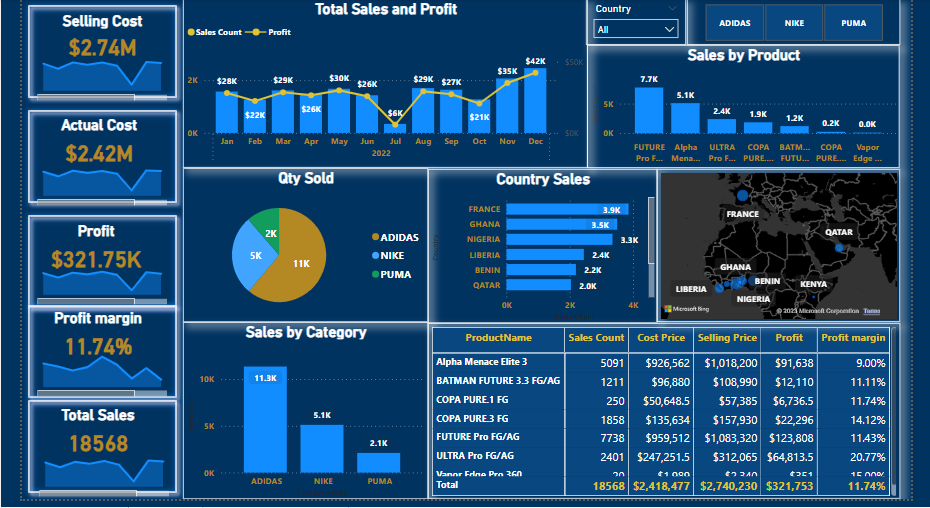

The dashboard page shown, as its layout file describes it:
{"tool":"powerbi","page":{"name":"Home","canvas":[1280,720],"ordinal":0},"visuals":[{"type":"shape","box":[0,0,231.8,151.2],"z":0},{"type":"card","title":"Selling Cost","fields":{"Values":["measures (2).Selling Price"]},"box":[0,18.5,231.8,70.6],"z":1000},{"type":"shape","box":[0,151.2,231.8,151.2],"z":2000},{"type":"shape","box":[0,302.4,231.8,151.2],"z":3000},{"type":"shape","box":[0,431.7,231.8,151.2],"z":4000},{"type":"shape","box":[0,569.4,231.8,151.2],"z":5000},{"type":"card","title":"Actual Cost","fields":{"Values":["measures (2).Cost Price"]},"box":[8.4,168,204.9,75.6],"z":6000},{"type":"card","title":"Profit","fields":{"Values":["measures (2).Profit"]},"box":[0,320.8,213.3,75.6],"z":7000},{"type":"card","title":"Profit margin","fields":{"Values":["measures (2).Profit margin"]},"box":[3.4,446.8,213.3,75.6],"z":8000},{"type":"card","title":"Total Sales","fields":{"Values":["measures (2).Sales Count"]},"box":[3.4,586.2,213.3,75.6],"z":9000},{"type":"clusteredColumnChart","title":"Sales by Category","fields":{"Y":["measures (2).Sales Count"],"Category":["ProductCategory.CategoryName"]},"box":[231.8,465.1,352.8,254.9],"z":10000},{"type":"areaChart","fields":{"Y":["measures (2).Selling Price"],"Category":["dimdate.Date.Variation.Date Hierarchy.Month"]},"box":[16.8,52.1,196.5,99.1],"z":11000},{"type":"areaChart","fields":{"Y":["measures (2).Cost Price"],"Category":["dimdate.Date.Variation.Date Hierarchy.Month"]},"box":[16.8,203.3,196.5,99.1],"z":12000},{"type":"areaChart","fields":{"Y":["measures (2).Profit"],"Category":["dimdate.Date.Variation.Date Hierarchy.Month"]},"box":[16.8,346,196.5,99.1],"z":13000},{"type":"areaChart","fields":{"Y":["measures (2).Profit margin"],"Category":["dimdate.Date.Variation.Date Hierarchy.Month"]},"box":[16.8,490.5,196.5,85.7],"z":14000},{"type":"areaChart","fields":{"Y":["measures (2).Sales Count"],"Category":["dimdate.Date.Variation.Date Hierarchy.Month"]},"box":[20.2,621.5,196.5,99.1],"z":15000},{"type":"pieChart","title":"Qty Sold","fields":{"Category":["ProductCategory.CategoryName"],"Y":["measures (2).Sales Count"]},"box":[231.8,243.4,352.8,221.8],"z":16000},{"type":"clusteredBarChart","title":"Country Sales","fields":{"Category":["CompanyLocation.Country"],"Y":["measures (2).Sales Count"]},"box":[584.6,244.8,329.8,221.8],"z":17000},{"type":"clusteredColumnChart","title":"Sales by Product","fields":{"Y":["measures (2).Sales Count"],"Category":["Product.ProductName"]},"box":[814.3,65.7,450,177.1],"z":18000},{"type":"lineClusteredColumnComboChart","title":"Total Sales and Profit","fields":{"Category":["dimdate.Date.Variation.Date Hierarchy.Year","dimdate.month name"],"Y":["measures (2).Sales Count"],"Y2":["measures (2).Profit"]},"box":[231.4,0,582.9,242.9],"z":19000},{"type":"pivotTable","fields":{"Rows":["Product.ProductName"],"Values":["measures (2).Sales Count","measures (2).Cost Price","measures (2).Selling Price","measures (2).Profit","measures (2).Profit margin"]},"box":[584.6,466.6,679.7,253.4],"z":20000},{"type":"map","fields":{"Category":["CompanyLocation.Country"],"Size":["measures (2).Sales Count"]},"box":[914.4,244.8,349.9,220.3],"z":21000},{"type":"slicer","fields":{"Values":["CompanyLocation.Country"]},"box":[812.9,0,144.3,65.7],"z":22000},{"type":"slicer","fields":{"Values":["ProductCategory.CategoryName"]},"box":[957.1,0,307.1,65.7],"z":23000}]}

Visuals, with their boxes in screenshot pixels (x1, y1, x2, y2), scaled from the page's 1280x720 canvas onto the 930x508 screenshot:
shape: (0,0,168,107)
"Selling Cost" card: (0,13,168,63)
shape: (0,107,168,213)
shape: (0,213,168,320)
shape: (0,305,168,411)
shape: (0,402,168,507)
"Actual Cost" card: (6,119,155,172)
"Profit" card: (0,226,155,280)
"Profit margin" card: (2,315,157,369)
"Total Sales" card: (2,414,157,467)
"Sales by Category" clusteredColumnChart: (168,328,425,507)
areaChart - measures (2).Selling Price x dimdate.Date.Variation.Date Hierarchy.Month: (12,37,155,107)
areaChart - measures (2).Cost Price x dimdate.Date.Variation.Date Hierarchy.Month: (12,143,155,213)
areaChart - measures (2).Profit x dimdate.Date.Variation.Date Hierarchy.Month: (12,244,155,314)
areaChart - measures (2).Profit margin x dimdate.Date.Variation.Date Hierarchy.Month: (12,346,155,407)
areaChart - measures (2).Sales Count x dimdate.Date.Variation.Date Hierarchy.Month: (15,439,157,507)
"Qty Sold" pieChart: (168,172,425,328)
"Country Sales" clusteredBarChart: (425,173,664,329)
"Sales by Product" clusteredColumnChart: (592,46,919,171)
"Total Sales and Profit" lineClusteredColumnComboChart: (168,0,592,171)
pivotTable - Product.ProductName x measures (2).Sales Count: (425,329,919,507)
map - CompanyLocation.Country x measures (2).Sales Count: (664,173,919,328)
slicer - CompanyLocation.Country: (591,0,695,46)
slicer - ProductCategory.CategoryName: (695,0,919,46)
